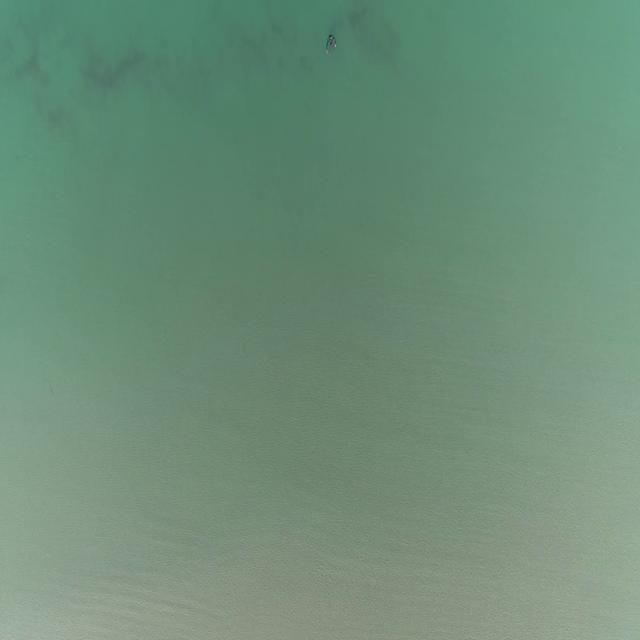person: (325, 33, 339, 52)
